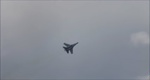maybay_muctieu: (63, 39, 79, 55)
